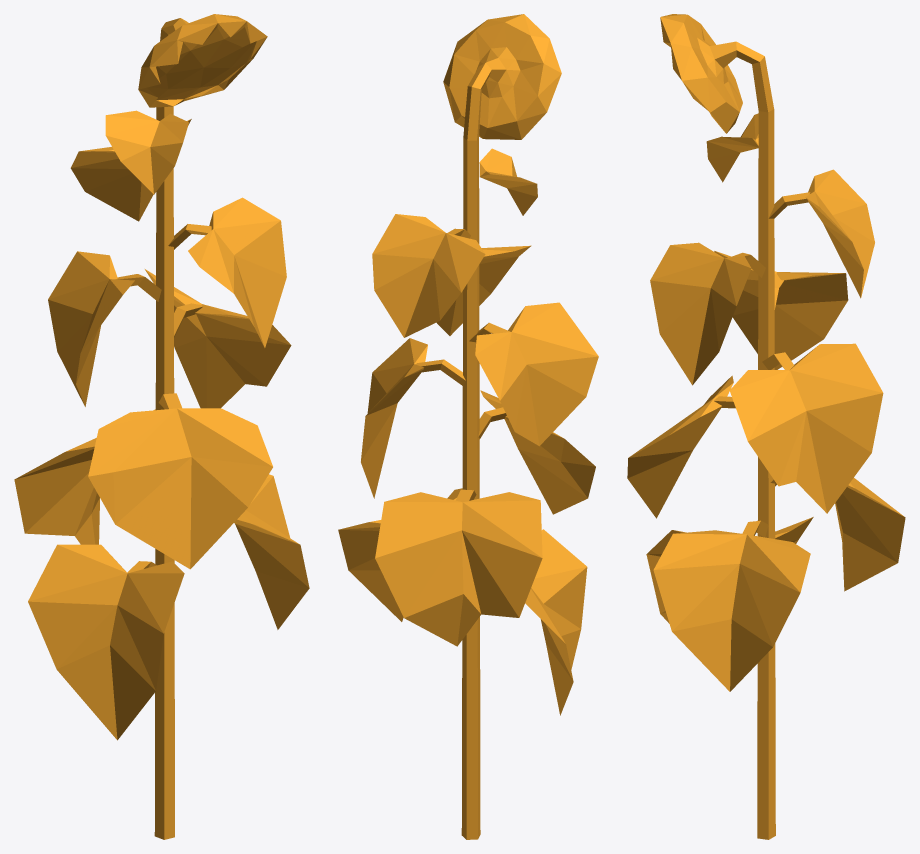
Rendered from SM_Sunflower_Plant_Ripe_D.fbx.
3 views of the same model, side by side, from view 1: azimuth 30°, elevation 25°; view 2: azimuth 150°, elevation 25°; view 3: azimuth 270°, elevation 25° (orthographic). The views are drawn at different scales.
Parts seen in each view (by area): view 1: sunflower-plant-ripe-d; view 2: sunflower-plant-ripe-d; view 3: sunflower-plant-ripe-d.
Boxes of the visible parts, x1,y1,x2,y2 form: sunflower-plant-ripe-d: [14, 14, 309, 839]; sunflower-plant-ripe-d: [338, 14, 598, 839]; sunflower-plant-ripe-d: [627, 14, 905, 839].
Bounding box in the file's own units: 0.6649 × 2.17 × 0.6691.
